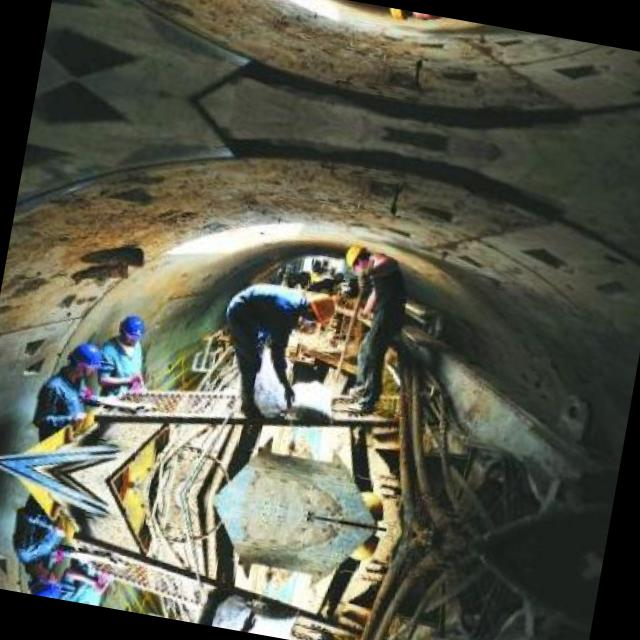helmet: (58, 338, 105, 387), (108, 306, 150, 351), (21, 556, 68, 596), (292, 286, 338, 324), (340, 239, 378, 274), (384, 6, 419, 26)
